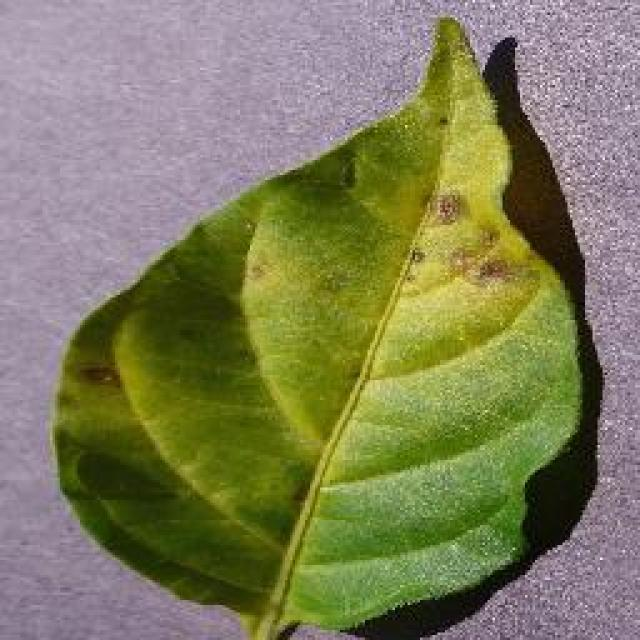Chilli_Bacterial_Spot: (45, 12, 597, 638), (400, 188, 518, 298), (442, 235, 512, 290), (72, 358, 122, 392), (332, 150, 362, 195), (430, 190, 465, 228), (472, 255, 512, 285), (402, 242, 428, 270)
